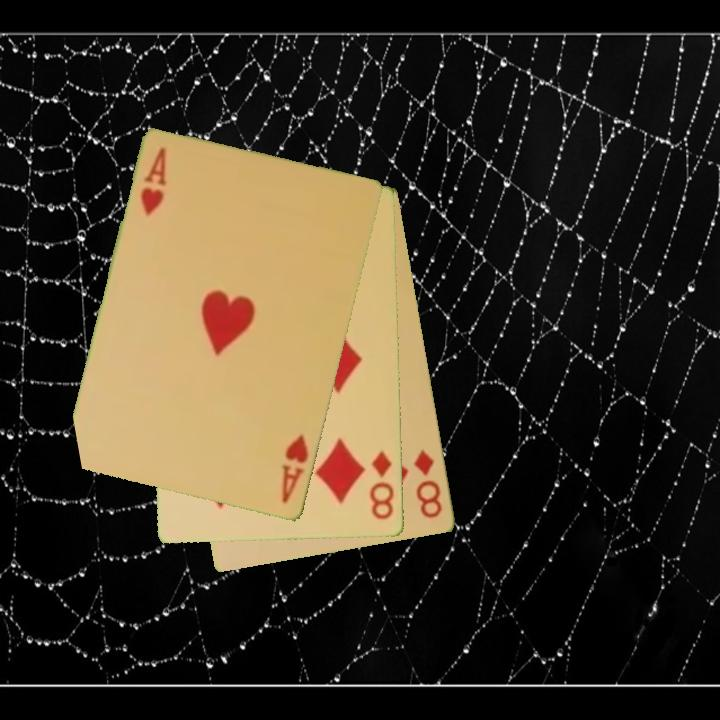8d: (410, 446, 446, 521), (366, 447, 397, 522)
Ah: (278, 432, 312, 506), (137, 144, 169, 220)
